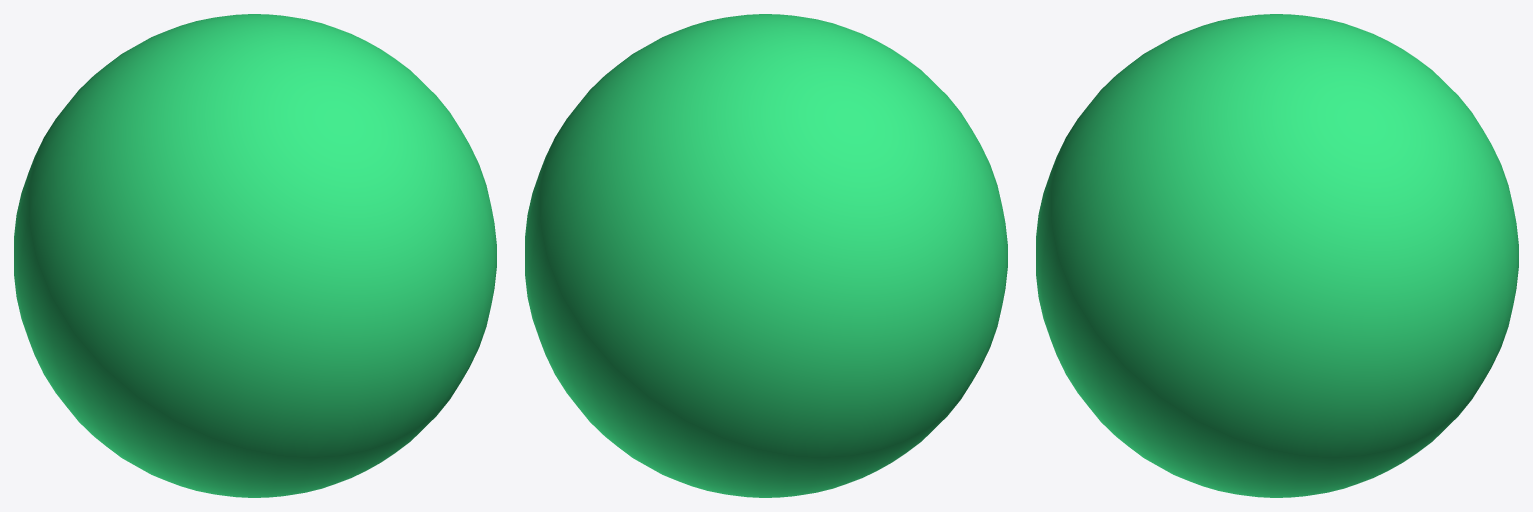
File: Loptica predmet koji se hvata .fbx
3 views of the same model, side by side, from view 1: azimuth 30°, elevation 25°; view 2: azimuth 150°, elevation 25°; view 3: azimuth 270°, elevation 25° (orthographic).
Visible parts, largest first — view 1: Loptica predmet skupljanja; view 2: Loptica predmet skupljanja; view 3: Loptica predmet skupljanja.
Part boxes in pixels (<box>): Loptica predmet skupljanja: <box>14,14,496,497</box>; Loptica predmet skupljanja: <box>525,14,1007,497</box>; Loptica predmet skupljanja: <box>1036,14,1518,497</box>.
Size of the model in its own units: 31.92 by 31.99 by 31.89.
